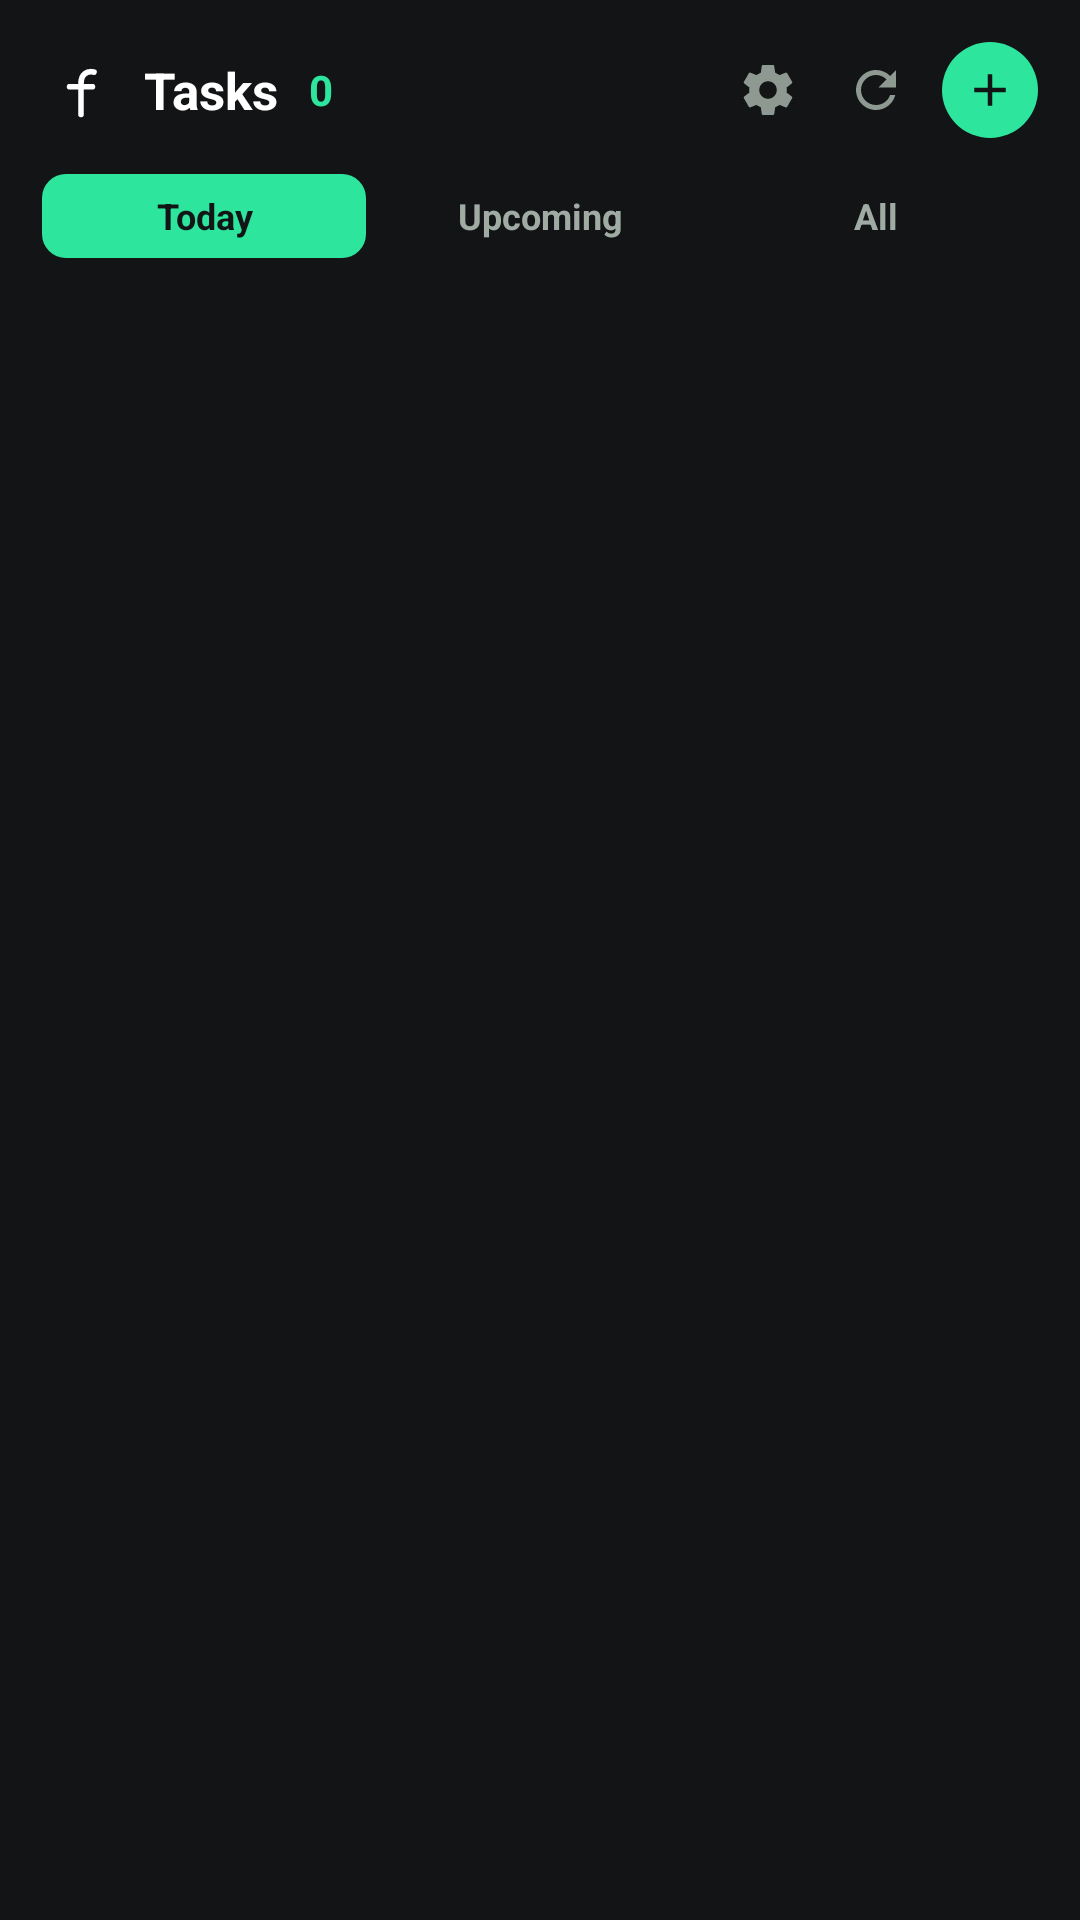

Named icons in this screenshot (1080 x 1920) and their bounding boxes, (left=x1, top=y1, right=x2, bottom=y2):
Add Task: (left=942, top=42, right=1038, bottom=138)
Customize Widget: (left=743, top=65, right=793, bottom=115)
Refresh: (left=856, top=70, right=896, bottom=110)
